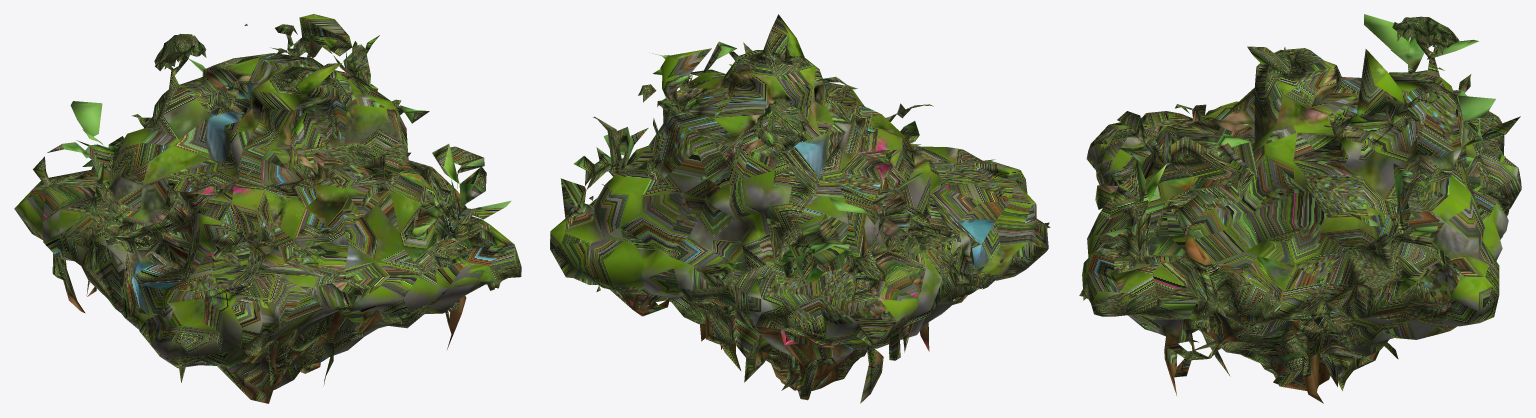
Rendered from _garden_floating_ga_2.glb.
3 views of the same model, side by side, from view 1: azimuth 30°, elevation 25°; view 2: azimuth 150°, elevation 25°; view 3: azimuth 270°, elevation 25° (orthographic). The views are drawn at different scales.
Visible parts, largest first — view 1: _garden_floating_ga_2; view 2: _garden_floating_ga_2; view 3: _garden_floating_ga_2.
Part boxes in pixels (box(x1,y1,x2,y2)): _garden_floating_ga_2: box(14, 14, 521, 403); _garden_floating_ga_2: box(550, 14, 1050, 403); _garden_floating_ga_2: box(1079, 14, 1521, 403).
Size of the model in its own units: 1.96 by 1.82 by 1.95.
1 material, 1 textured.
